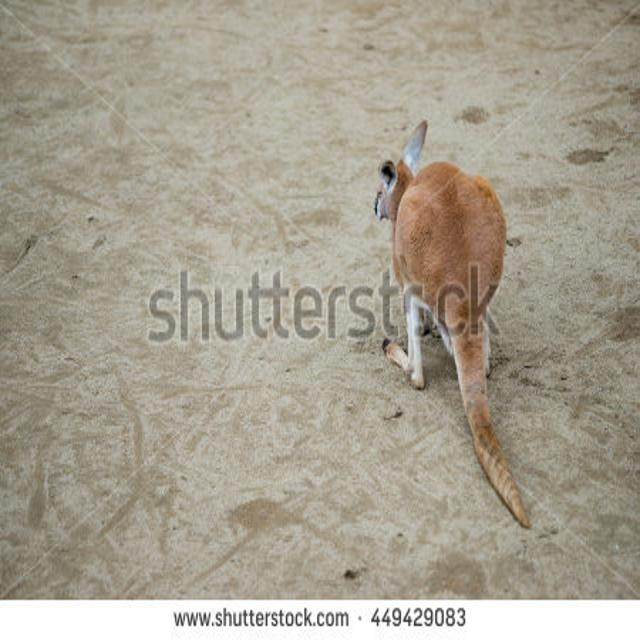kangaroo: (364, 121, 511, 411)
